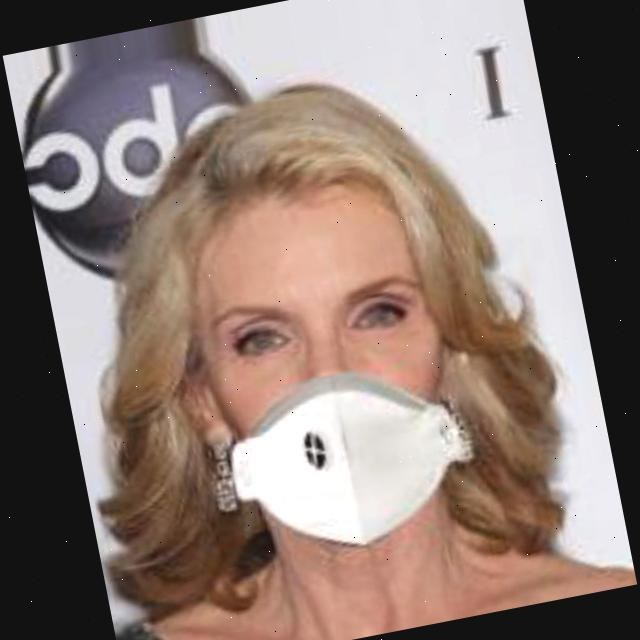suspicion: (130, 90, 500, 556)
